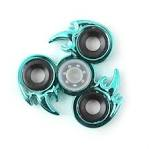fidget_spinner: (11, 8, 139, 139)
